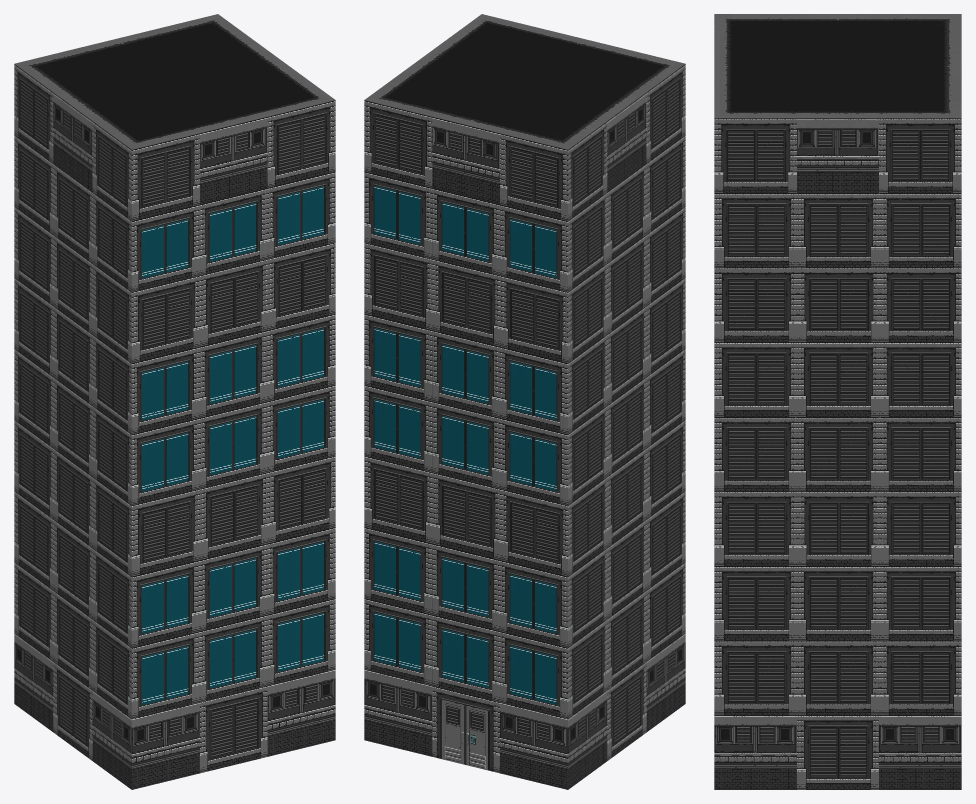
Rendered from cyb-megapredio-neon.gltf.
3 views of the same model, side by side, from view 1: azimuth 30°, elevation 25°; view 2: azimuth 150°, elevation 25°; view 3: azimuth 270°, elevation 25° (orthographic). The views are drawn at different scales.
Parts seen in each view (by area): view 1: gry_mid (×7), roof, gry_btm, gry_top; view 2: gry_mid (×7), roof, gry_btm, gry_top; view 3: gry_mid (×7), roof, gry_btm, gry_top.
Boxes of the visible parts, bbox=[...] form: gry_mid (×7): bbox=[14, 135, 335, 718]; roof: bbox=[14, 14, 335, 149]; gry_btm: bbox=[14, 633, 335, 789]; gry_top: bbox=[14, 64, 335, 220]; gry_mid (×7): bbox=[364, 135, 685, 718]; roof: bbox=[364, 14, 685, 149]; gry_btm: bbox=[364, 633, 685, 789]; gry_top: bbox=[364, 64, 685, 220]; gry_mid (×7): bbox=[714, 193, 961, 715]; roof: bbox=[714, 14, 961, 118]; gry_btm: bbox=[714, 715, 961, 789]; gry_top: bbox=[714, 118, 961, 192].
Bounding box in the file's own units: 6 × 18 × 6.
2 materials, 2 textured.
